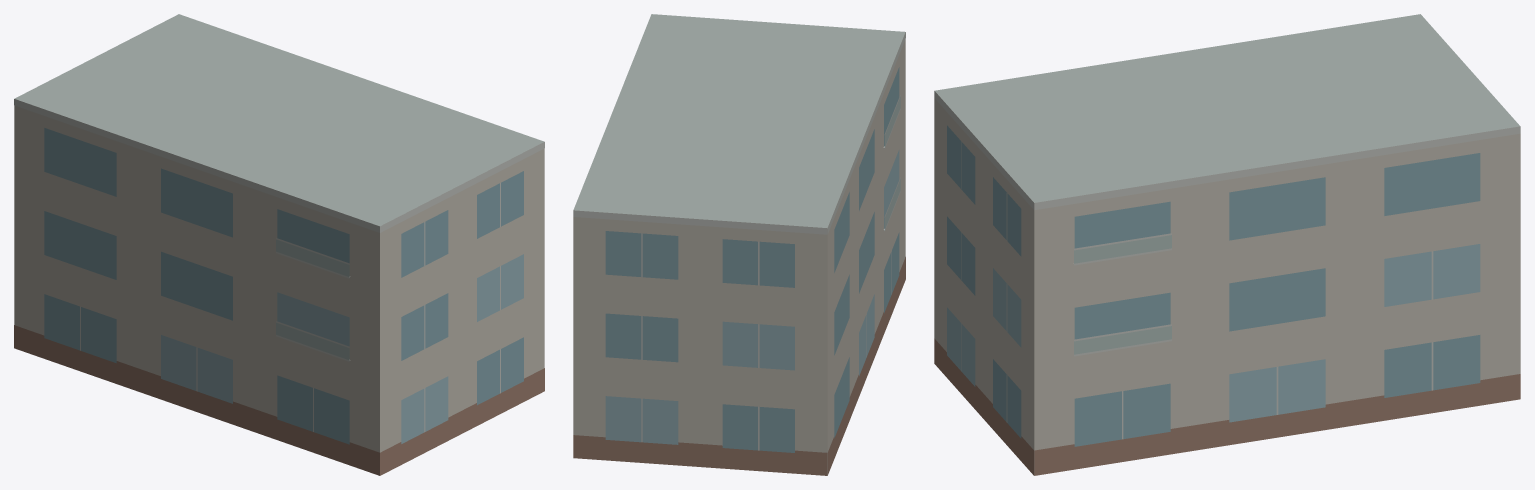
The model's file is survey-upis-32697633.glb.
3 views of the same model, side by side, from view 1: azimuth 30°, elevation 25°; view 2: azimuth 150°, elevation 25°; view 3: azimuth 270°, elevation 25° (orthographic). The views are drawn at different scales.
Parts seen in each view (by area): view 1: survey-upis-32697633.tmp; view 2: survey-upis-32697633.tmp; view 3: survey-upis-32697633.tmp.
Boxes of the visible parts, box(x1,y1,x2,y2) form: survey-upis-32697633.tmp: box(14, 14, 544, 475); survey-upis-32697633.tmp: box(573, 14, 905, 475); survey-upis-32697633.tmp: box(934, 14, 1520, 475).
Size of the model in its own units: 13.59 by 9.15 by 17.82.
